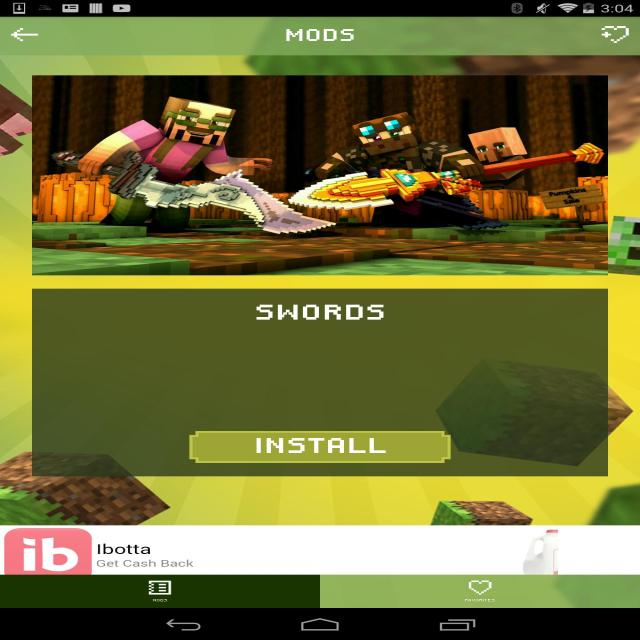button: (2, 574, 319, 608), (319, 575, 640, 607), (191, 429, 454, 464), (594, 23, 638, 45), (10, 24, 44, 44)
heading: (252, 303, 394, 324), (284, 24, 360, 46)
iframe: (1, 525, 640, 574)
image: (1, 54, 640, 524), (34, 76, 608, 275)
